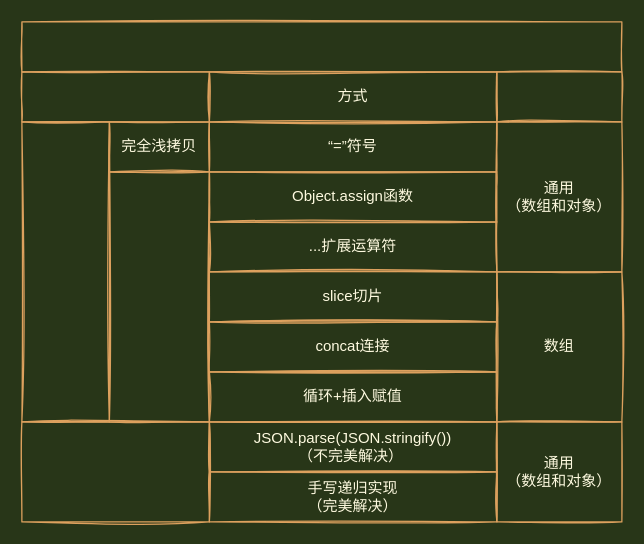
Image size: 644x544. Some labels were removed from this diagram. The centre of each missing label's shape, as x and y in pixels:
"不完全浅拷贝" goes at [158,296].
"拷贝类型" goes at [115,96].
"浅拷贝" goes at [65,271].
"深拷贝" goes at [115,471].
"深浅拷贝" goes at [321,46].
"适用" goes at [559,96].
